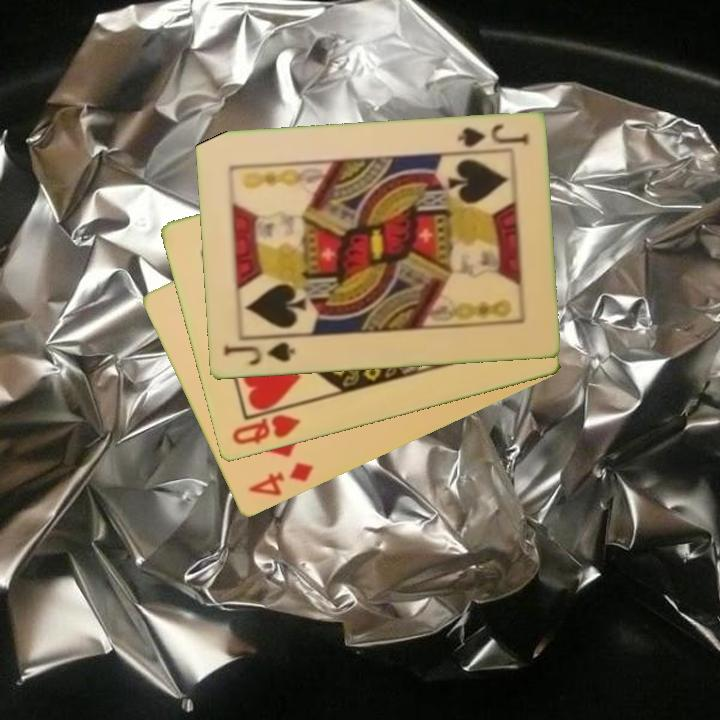4d: (244, 459, 317, 500)
Js: (453, 121, 531, 151), (220, 339, 297, 368)
Qh: (228, 411, 303, 448)
